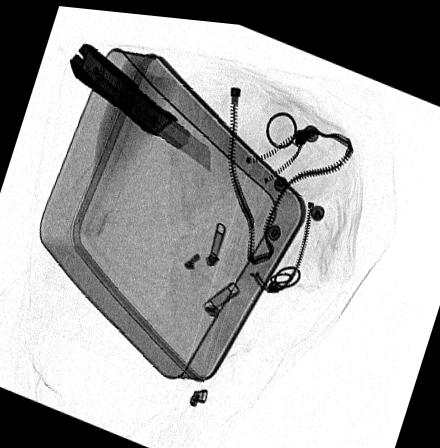Knife: (67, 40, 209, 170)
